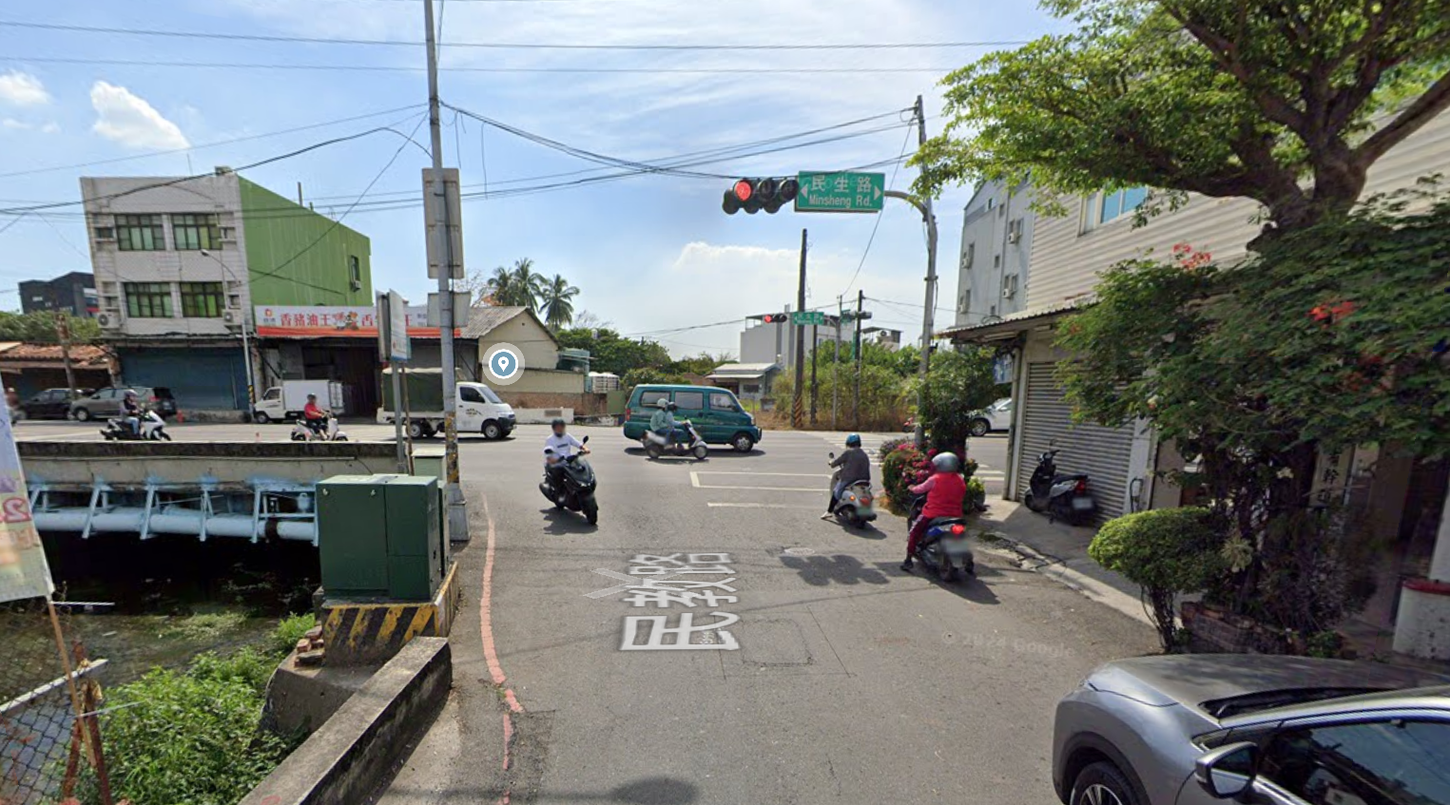red: (724, 176, 798, 216), (761, 310, 786, 325)
